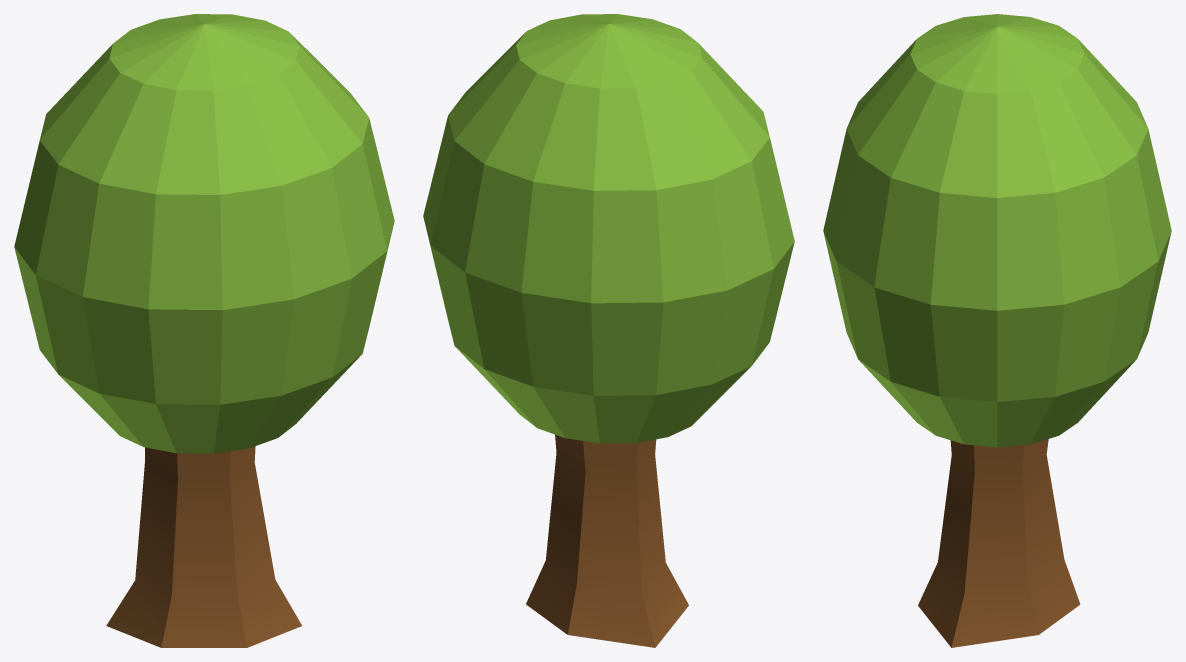
File: Pohon4.fbx
3 renders of one model, left to right at view 1: azimuth 30°, elevation 25°; view 2: azimuth 150°, elevation 25°; view 3: azimuth 270°, elevation 25°, orthographic. The views are drawn at different scales.
Parts seen in each view (by area): view 1: tree_2c.001; view 2: tree_2c.001; view 3: tree_2c.001.
Part boxes in pixels (x1,y1,x2,y2): tree_2c.001: [14, 14, 394, 647]; tree_2c.001: [423, 14, 794, 647]; tree_2c.001: [823, 14, 1171, 647].
Bounding box in the file's own units: 318 × 542 × 292.
